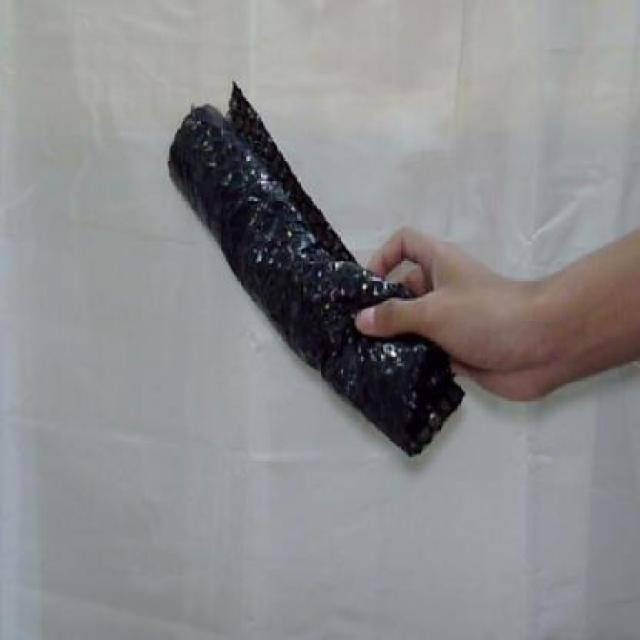Plastic: (151, 79, 477, 478)
